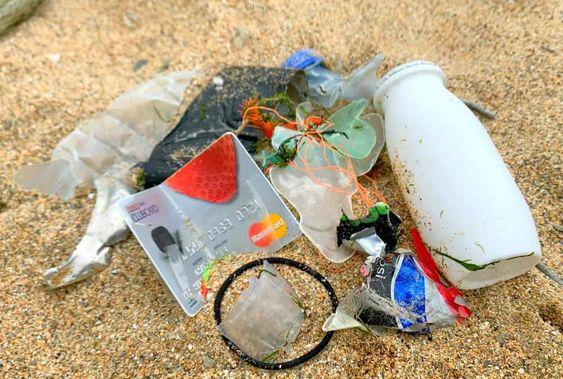PP: (370, 61, 541, 292)
